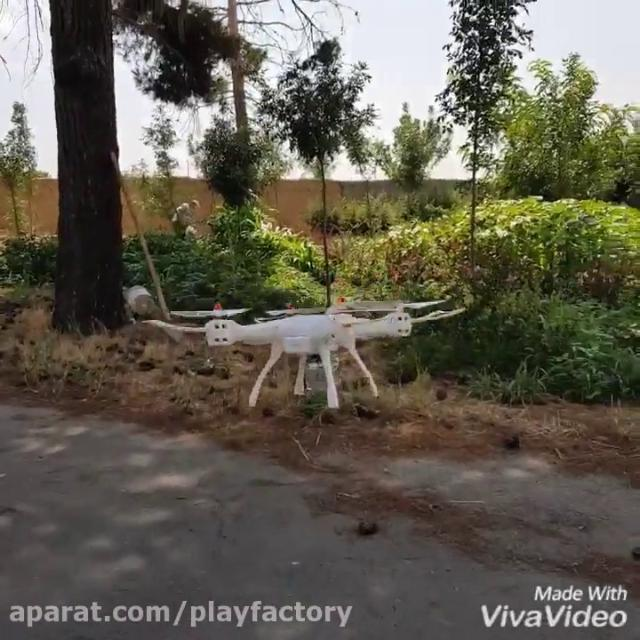drone: (142, 293, 466, 412)
